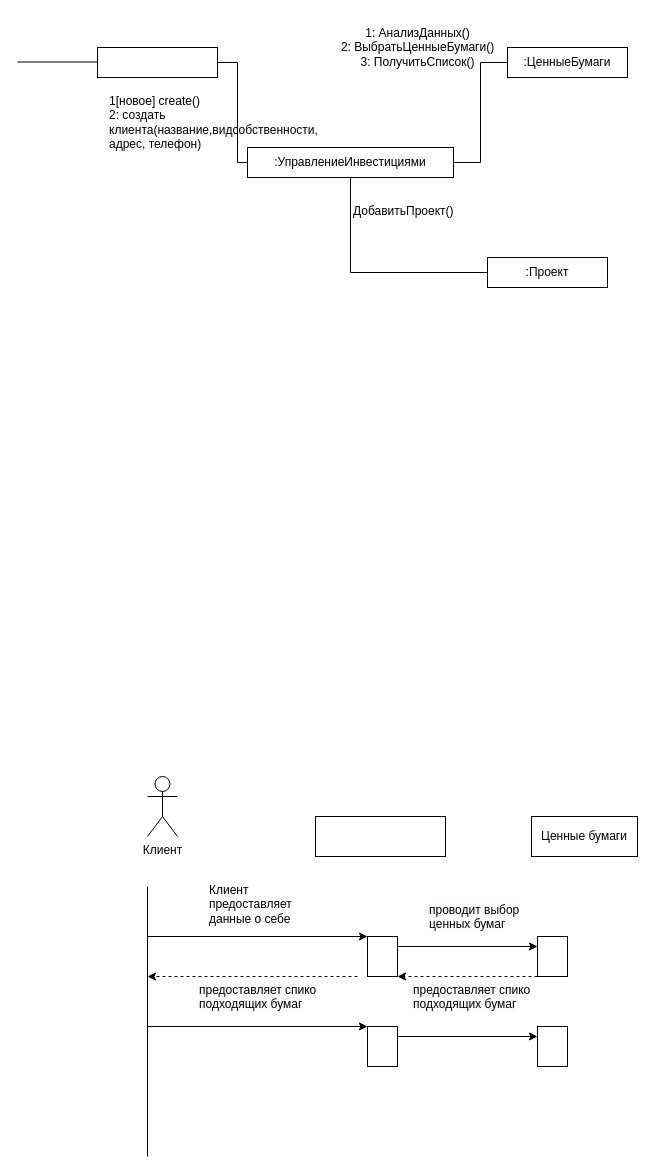
The diagram is 655 pixels wide and 1175 high, and some of its shapes have lost their labels. Here are the shapes that lost their labels. From the top down, the centre of each, then its label:
At (x=157, y=62): "кл:Клиент".
At (x=380, y=836): "Инвестиционный проект".
